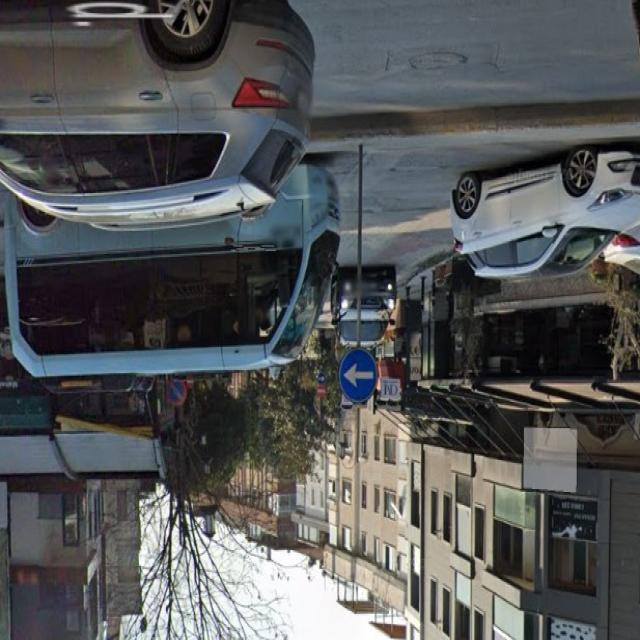Turn Left: (338, 353, 382, 408)
